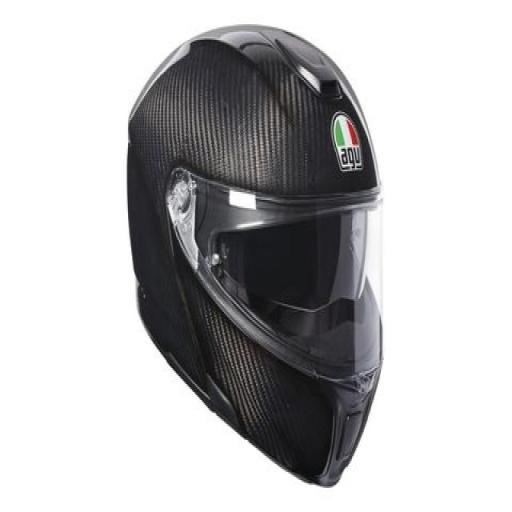Helmet: (94, 0, 424, 491)
